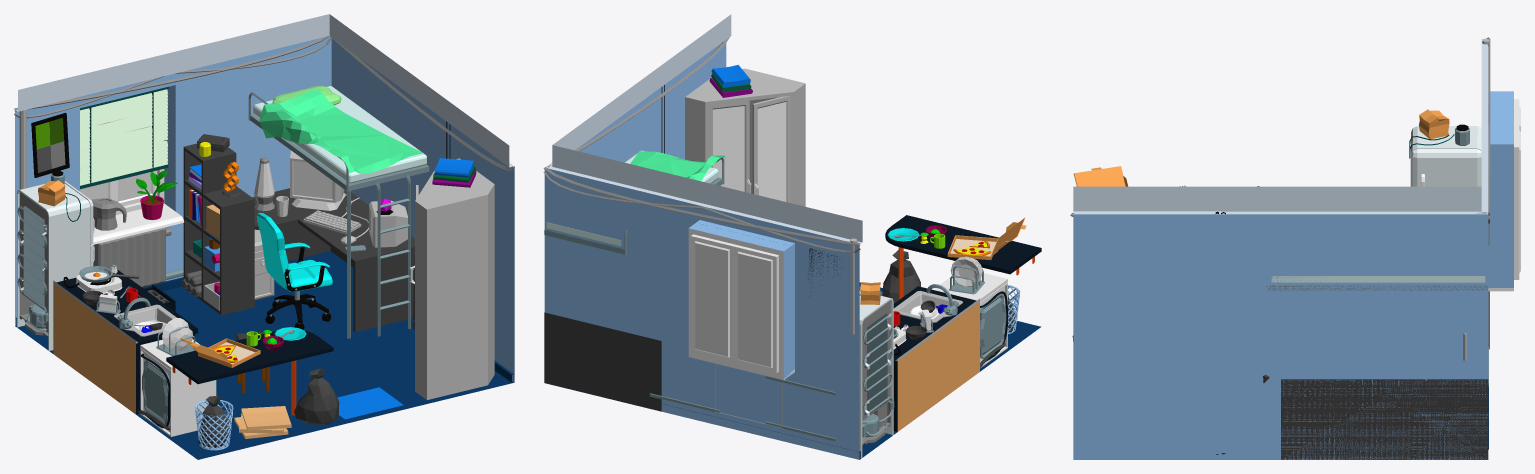
The model's file is room.gltf.
3 renders of one model, left to right at view 1: azimuth 30°, elevation 25°; view 2: azimuth 150°, elevation 25°; view 3: azimuth 270°, elevation 25°, orthographic. The views are drawn at different scales.
Visible parts, largest first — view 1: Box010.001; view 2: Box010.001; view 3: Box010.001.
Boxes of the visible parts, x1=… form: Box010.001: x1=14, y1=14, x2=514, y2=459; Box010.001: x1=543, y1=14, x2=1041, y2=459; Box010.001: x1=1070, y1=37, x2=1520, y2=459.
Size of the model in its own units: 14.21 by 10.24 by 15.2.
7 materials, 1 textured.
